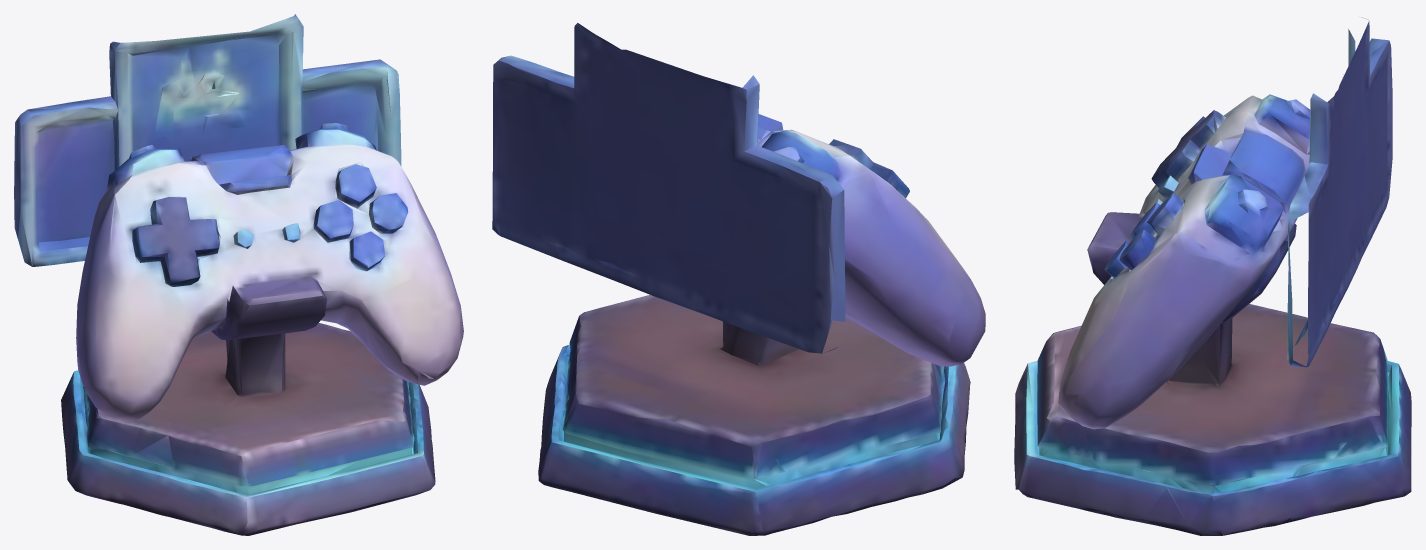
File: deco06.glb
The picture shows the model from 3 angles, left to right: view 1: azimuth 30°, elevation 25°; view 2: azimuth 150°, elevation 25°; view 3: azimuth 270°, elevation 25°; orthographic projection. The views are drawn at different scales.
Size of the model in its own units: 0.2261 by 0.2213 by 0.1981.
Materials: 1 (1 with a texture image).
